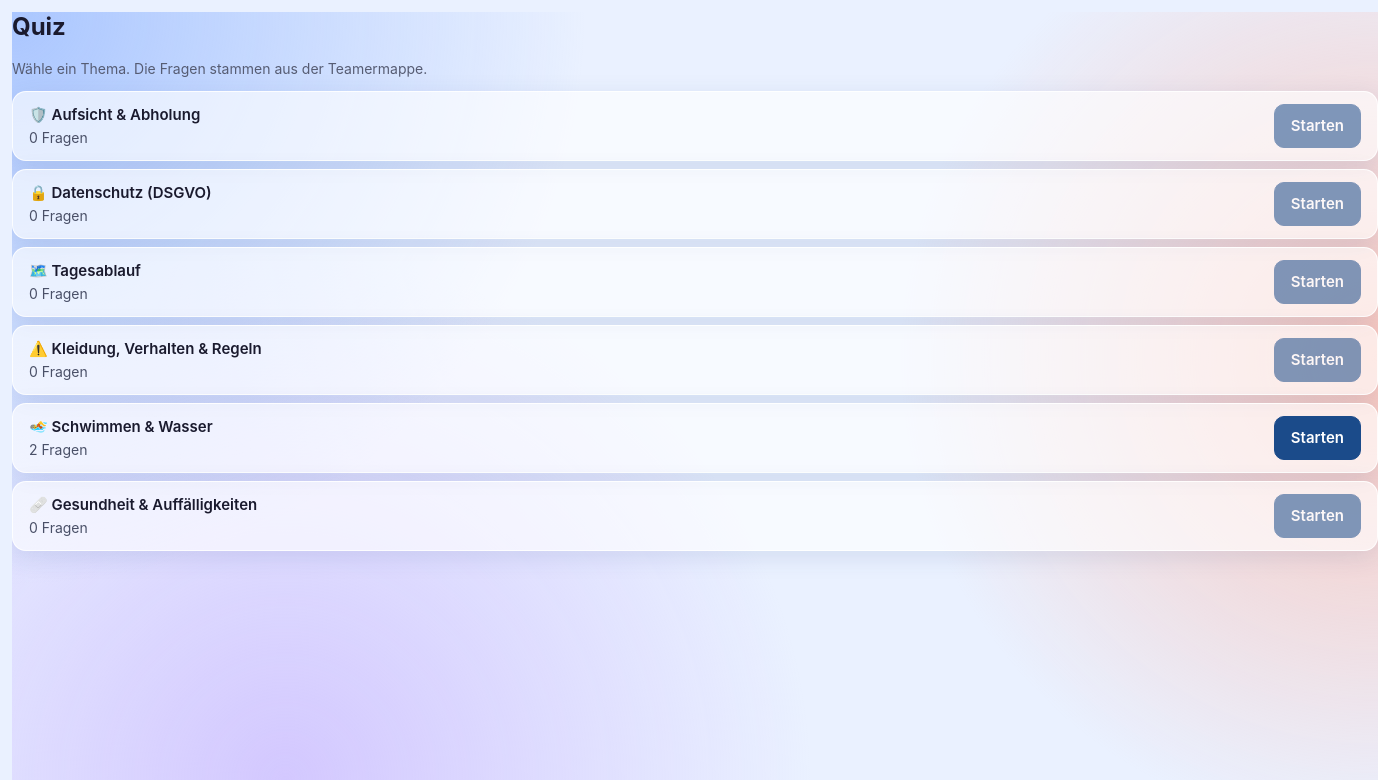
Quiz: Ablauf › Einzelantwort: sofortige Auswertung, Erklärung, dann weiter bis zum Ergebnis mit Bestwert
This screenshot has width=1378, height=780.
Click the button with aria-label "Quiz starten: Schwimmen & Wasser" at (1317, 438), box x1=1274 y1=416 x2=1361 y2=460
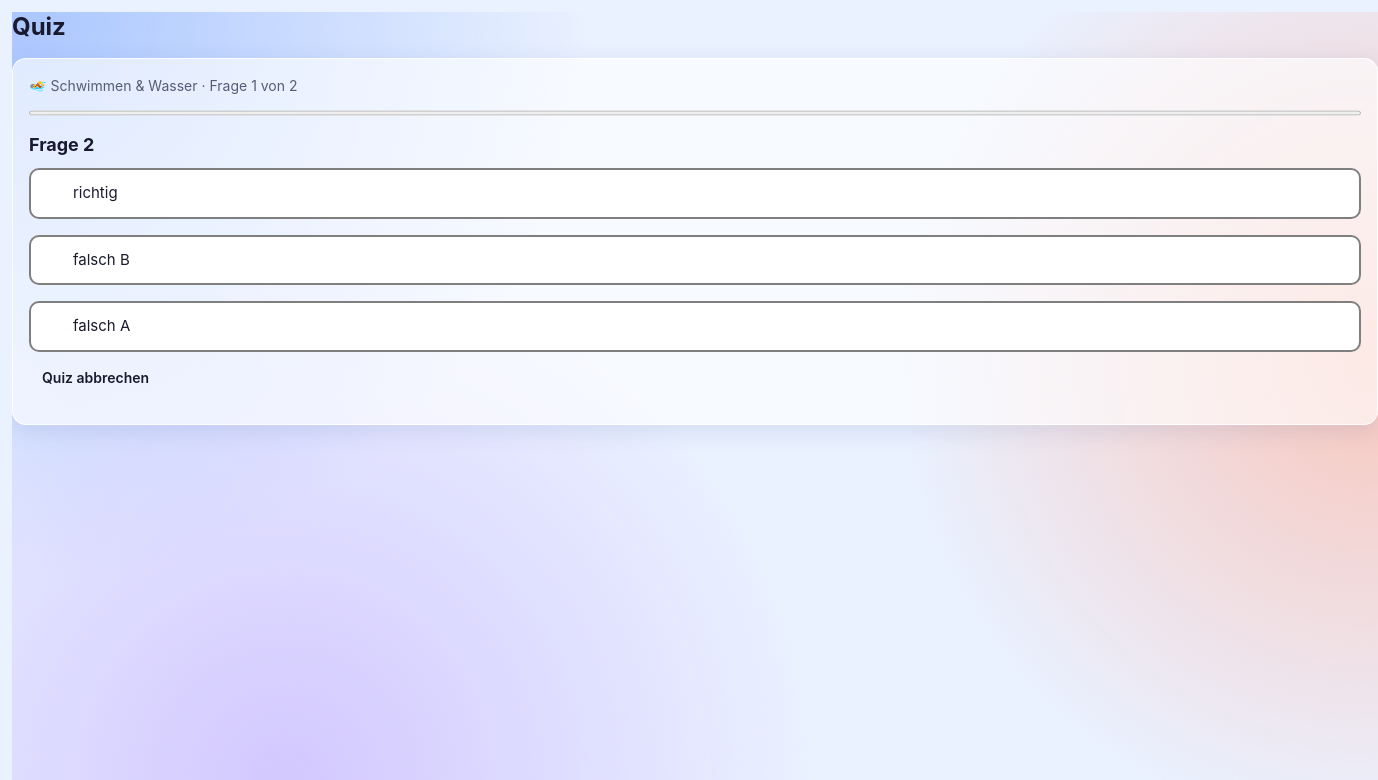
Expected: the message shows "Frage 1 von 2", x1=29 y1=77 x2=298 y2=94
Click the button "richtig" at (95, 192), box x1=29 y1=168 x2=1361 y2=218
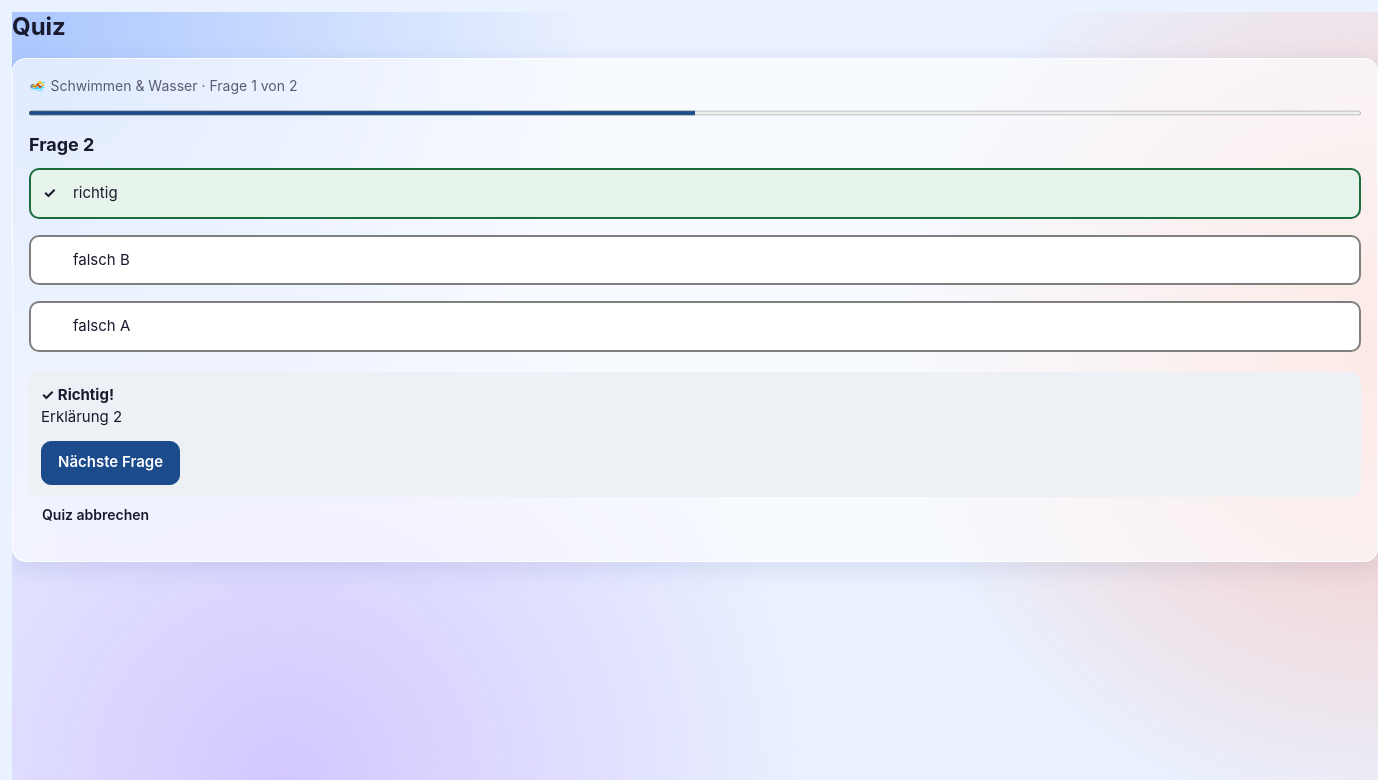
Expected: the text "✓ Richtig!" is shown, x1=41 y1=384 x2=114 y2=404
Expected: the text "Erklärung 2" is shown, x1=41 y1=407 x2=122 y2=426
Click the button "Nächste Frage" at (111, 462), box x1=41 y1=440 x2=180 y2=484
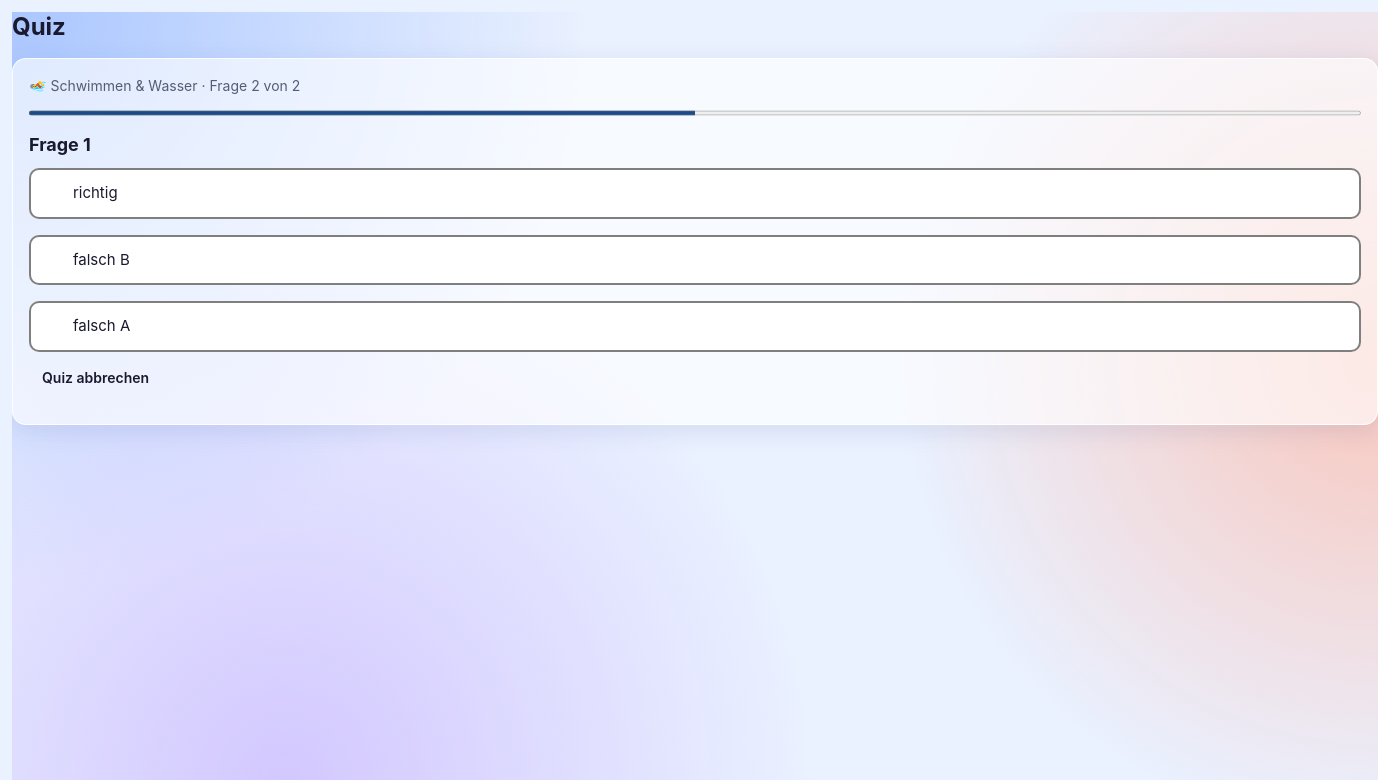
Click the button "falsch A" at (102, 326), box x1=29 y1=301 x2=1361 y2=352
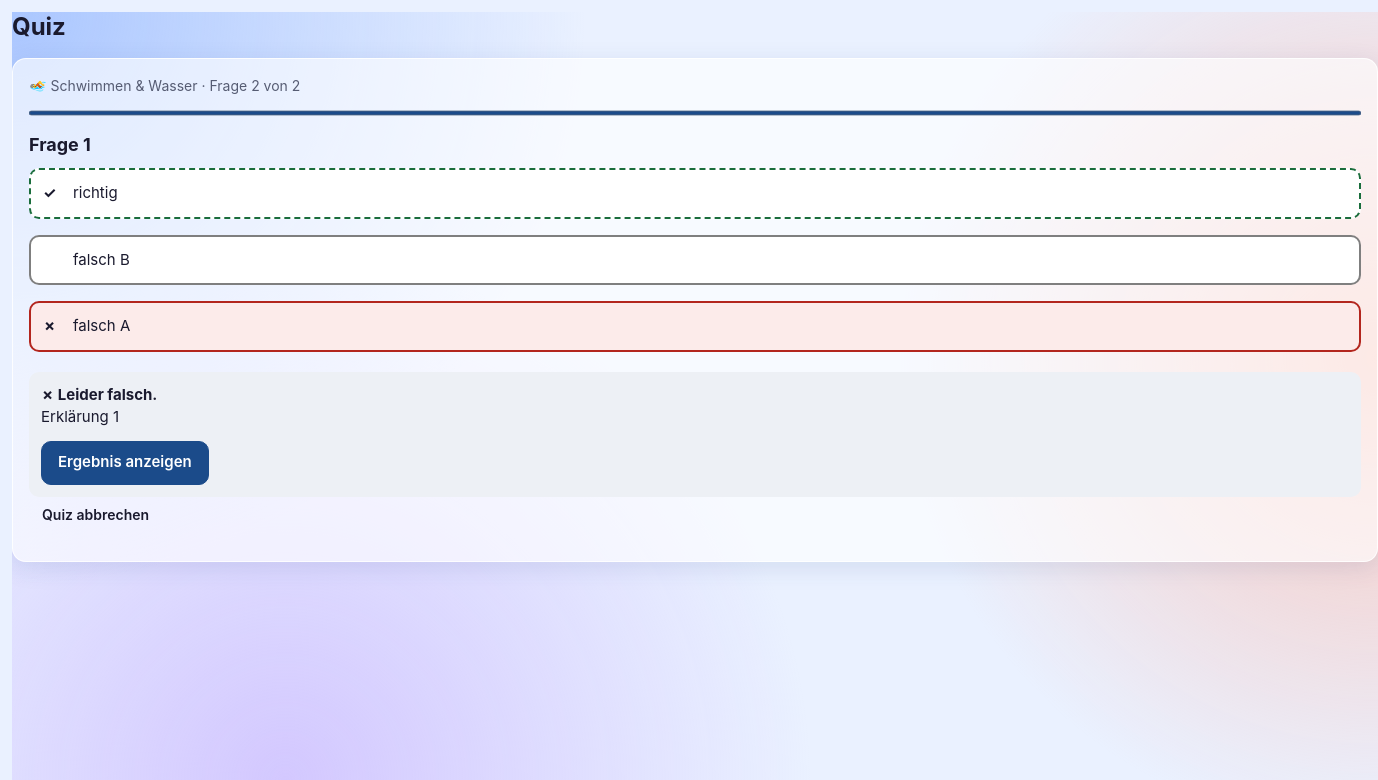
Expected: the text "✗ Leider falsch." is shown, x1=41 y1=384 x2=157 y2=404
Click the button "Ergebnis anzeigen" at (125, 462), box x1=41 y1=440 x2=209 y2=484
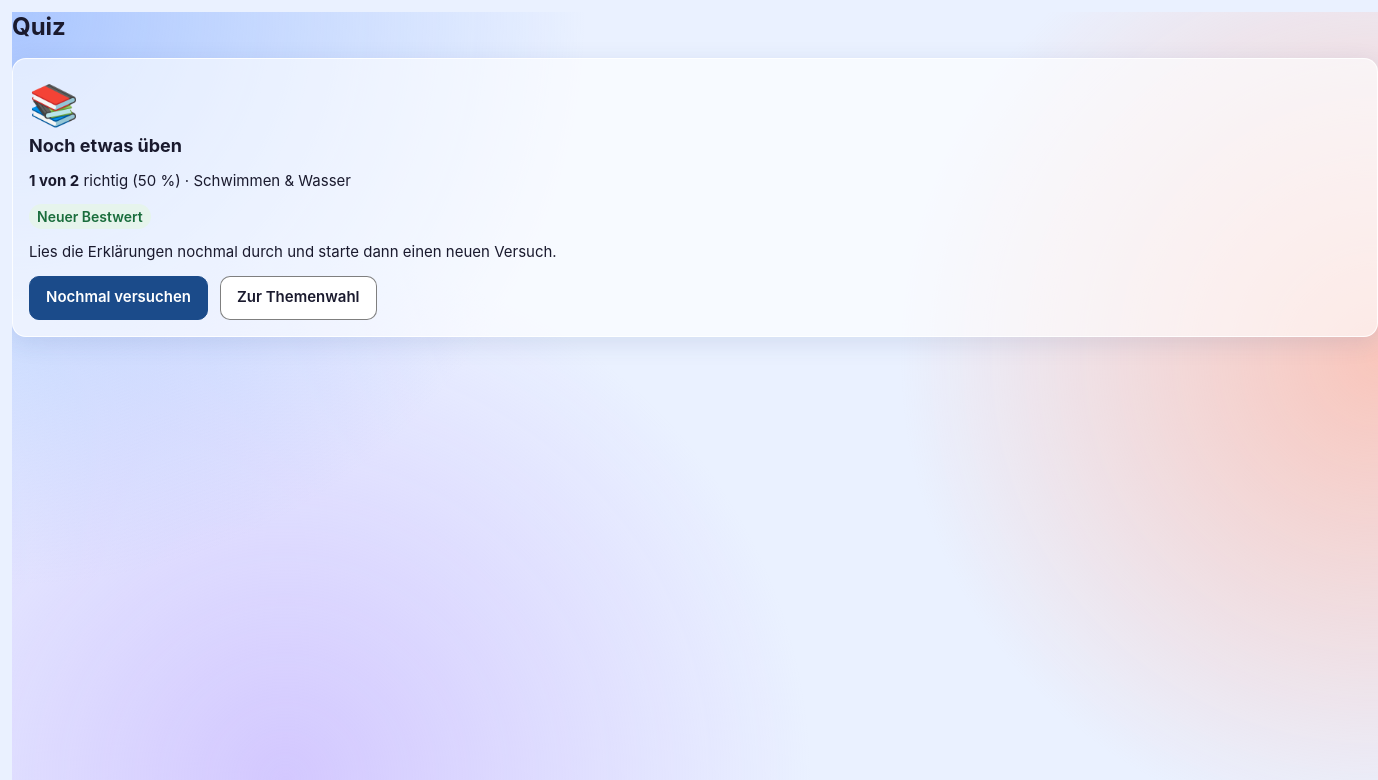
Expected: the text "1 von 2" is shown, x1=29 y1=170 x2=79 y2=190
Expected: the text "Neuer Bestwert" is shown, x1=29 y1=204 x2=151 y2=229
Expected: the heading "Noch etwas üben" is shown, x1=29 y1=135 x2=182 y2=156
